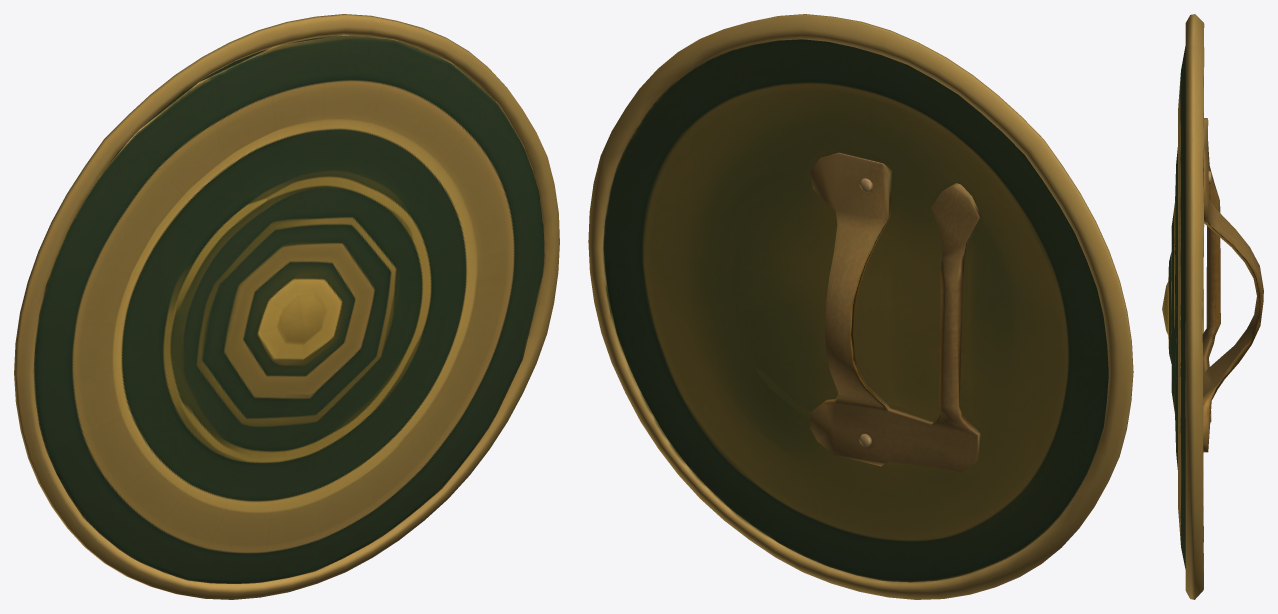
The model's file is tappeto_tondo.fbx.
3 views of the same model, side by side, from view 1: azimuth 30°, elevation 25°; view 2: azimuth 150°, elevation 25°; view 3: azimuth 270°, elevation 25° (orthographic). The views are drawn at different scales.
Visible parts, largest first — view 1: tripo_node_d6c2ac4c; view 2: tripo_node_d6c2ac4c; view 3: tripo_node_d6c2ac4c.
Part boxes in pixels (x1=…): tripo_node_d6c2ac4c: x1=14, y1=14, x2=559, y2=599; tripo_node_d6c2ac4c: x1=588, y1=14, x2=1133, y2=599; tripo_node_d6c2ac4c: x1=1162, y1=14, x2=1263, y2=599.
Size of the model in its own units: 0.9995 by 0.9995 by 0.1733.
Materials: 1 (1 with a texture image).
